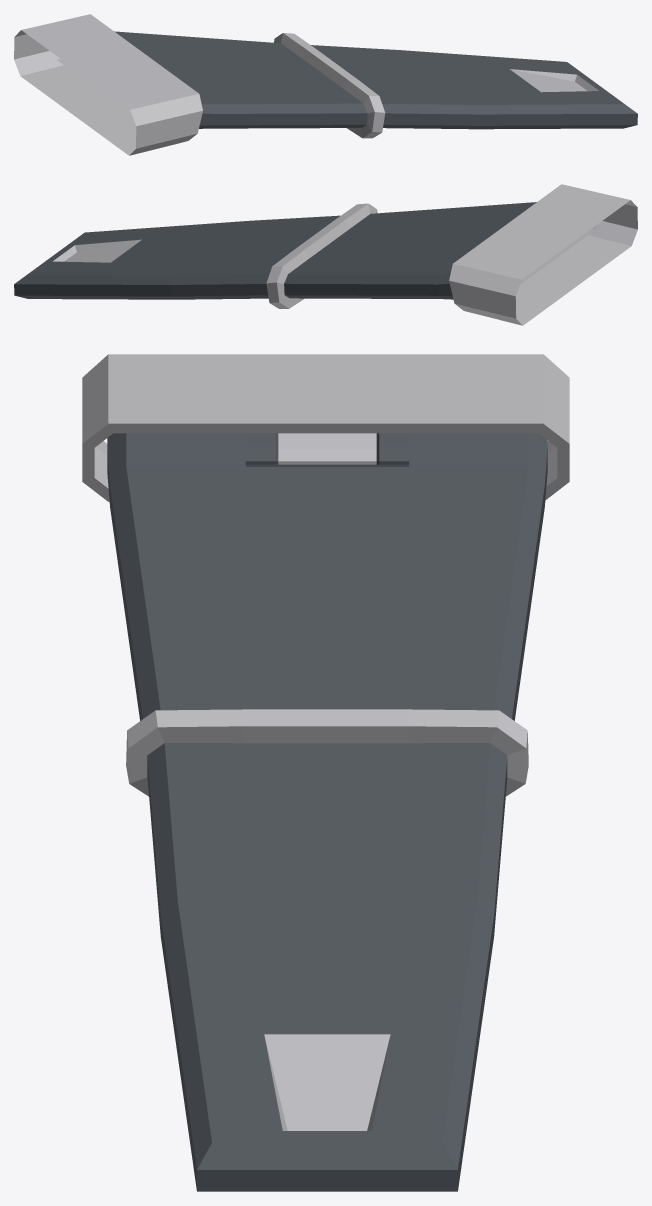
Rendered from Fighter_04_Small_Wing_Left.fbx.
3 renders of one model, top to bottom at view 1: azimuth 30°, elevation 25°; view 2: azimuth 150°, elevation 25°; view 3: azimuth 270°, elevation 25°, orthographic. The views are drawn at different scales.
Parts seen in each view (by area): view 1: Fighter_04_Small_Wing_Left; view 2: Fighter_04_Small_Wing_Left; view 3: Fighter_04_Small_Wing_Left.
Part boxes in pixels (x1=…): Fighter_04_Small_Wing_Left: x1=14, y1=14, x2=637, y2=155; Fighter_04_Small_Wing_Left: x1=14, y1=184, x2=637, y2=325; Fighter_04_Small_Wing_Left: x1=82, y1=354, x2=569, y2=1191.
Bounding box in the file's own units: 488 × 145 × 194.
Materials: 1 (1 with a texture image).
